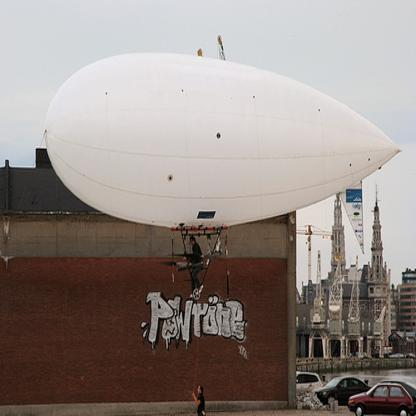Airship: (43, 50, 406, 226)
